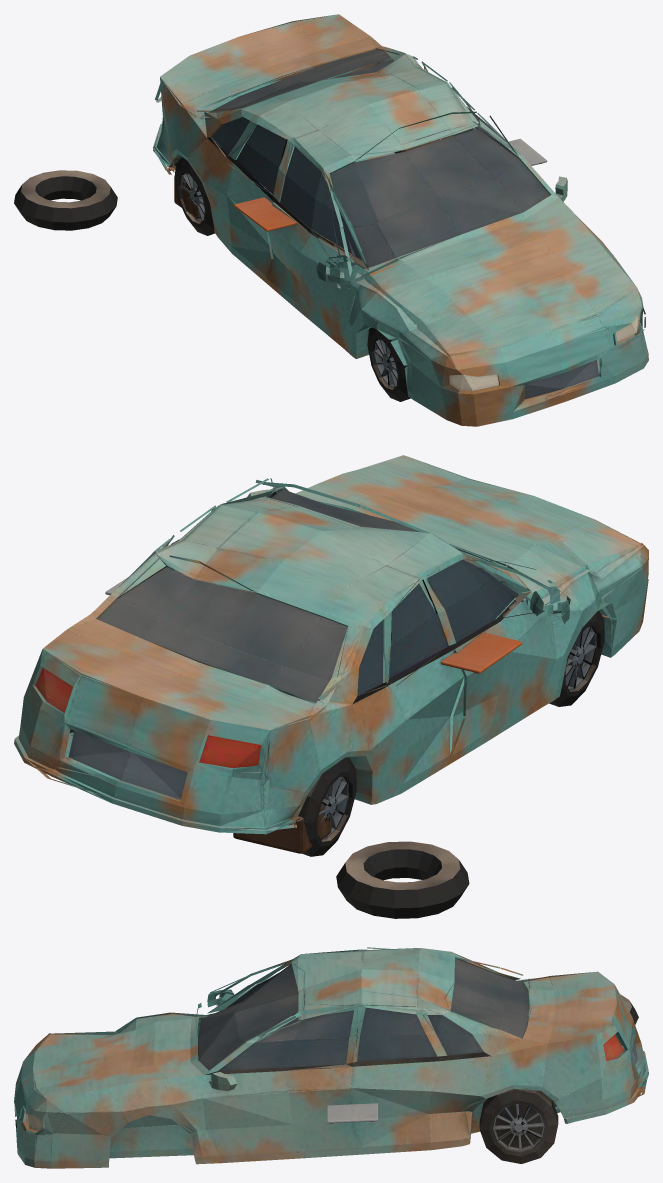
The model's file is scrap_car_a.glb.
The picture shows the model from 3 angles, top to bottom: view 1: azimuth 30°, elevation 25°; view 2: azimuth 150°, elevation 25°; view 3: azimuth 270°, elevation 25°; orthographic projection. The views are drawn at different scales.
Parts seen in each view (by area): view 1: ScrapCar_Mesh; view 2: ScrapCar_Mesh; view 3: ScrapCar_Mesh.
Boxes of the visible parts, left/top/right/bottom form: ScrapCar_Mesh: left=14, top=14, right=648, bottom=426; ScrapCar_Mesh: left=14, top=455, right=648, bottom=918; ScrapCar_Mesh: left=14, top=947, right=648, bottom=1168.
Size of the model in its own units: 2.83 by 1.36 by 4.22.
1 material, 1 textured.
